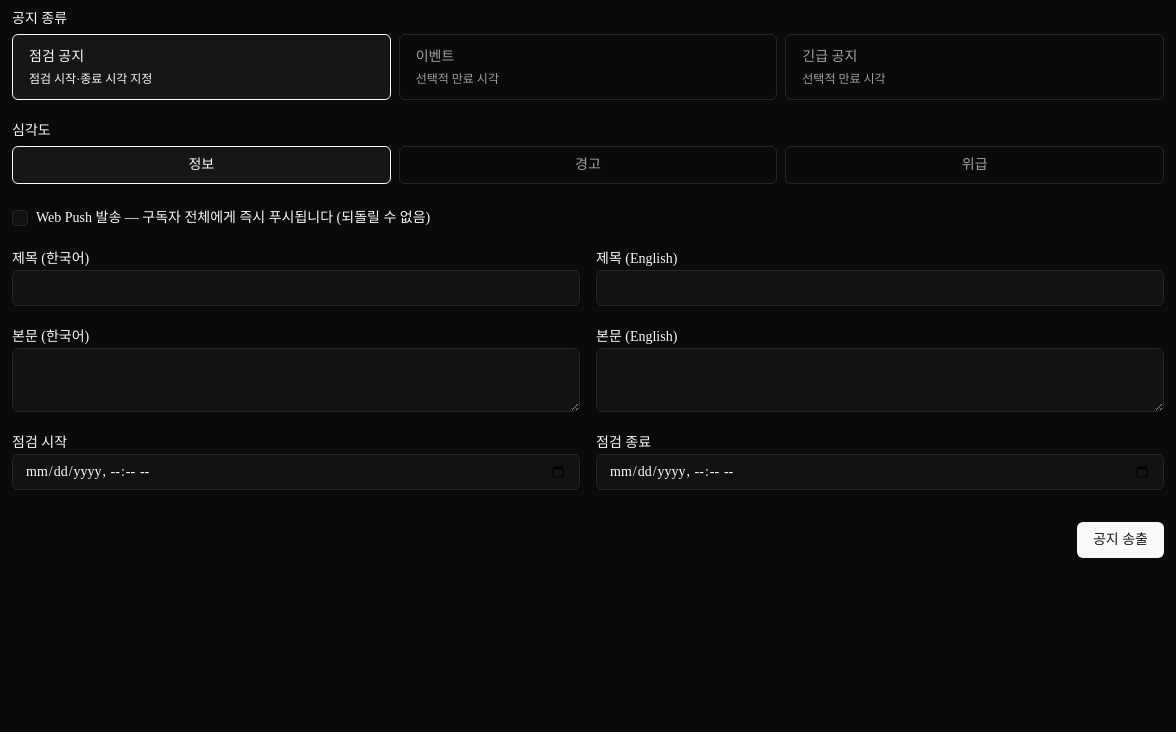
Test: AnnouncementLaunchForm › 빈 form 제출 — i18n 필수 메시지 노출 (한쪽만 작성 차단)
Click the button "공지 송출". click: (1120, 540)
box: [1077,522,1164,558]
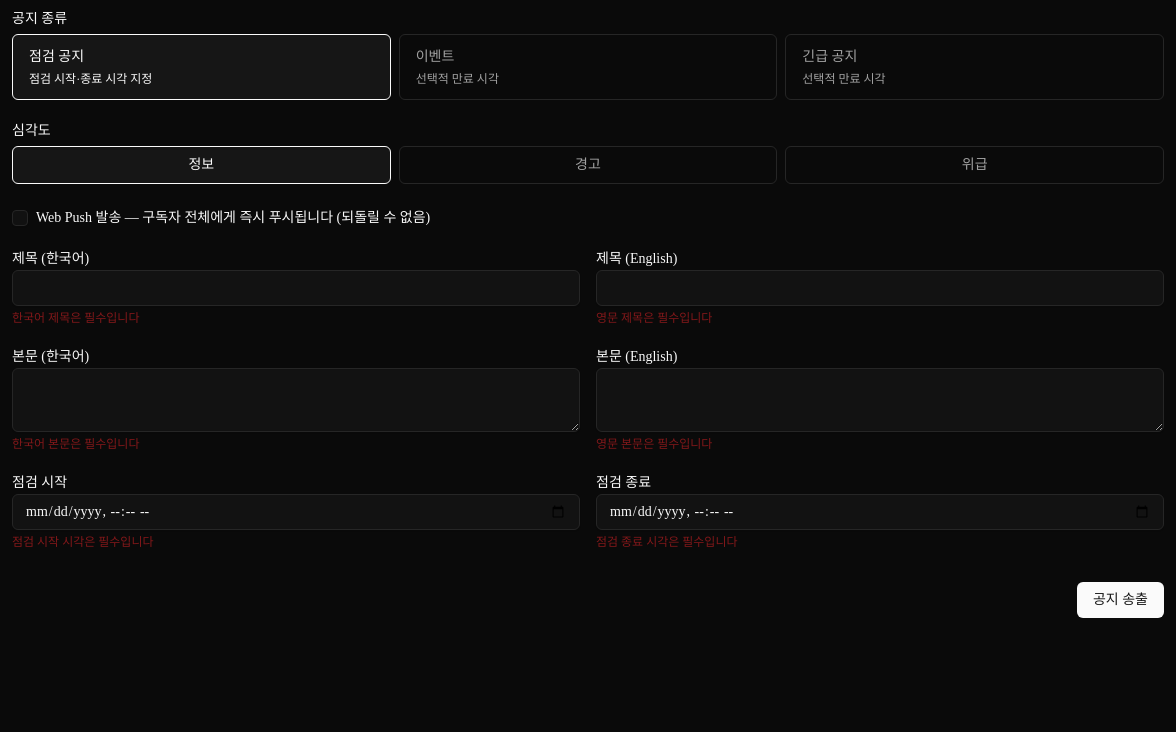
Expected: the text "한국어 제목은 필수입니다" is shown, [12,311,140,325]
Expected: the text "영문 제목은 필수입니다" is shown, [596,311,712,325]
Expected: the text "한국어 본문은 필수입니다" is shown, [12,437,140,451]
